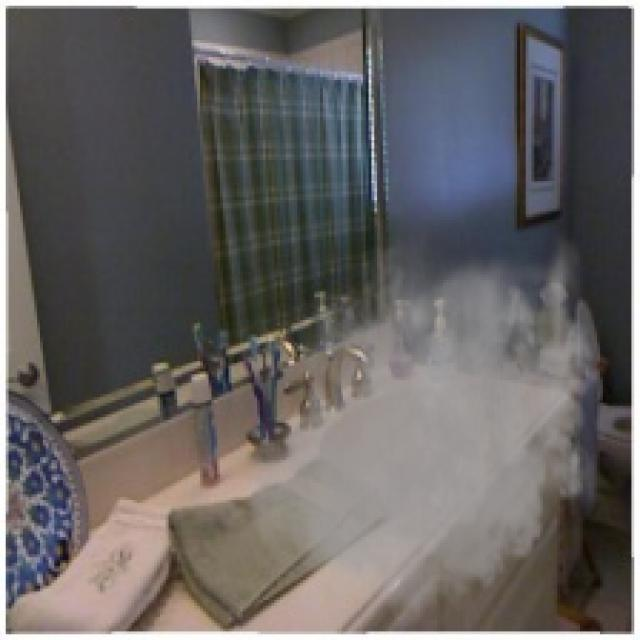Smoke: (237, 222, 612, 638)
